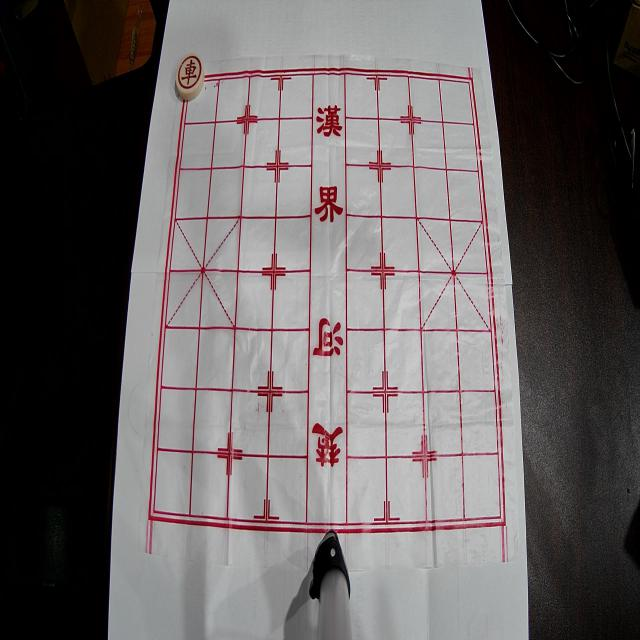red-chariot: (176, 53, 204, 100)
